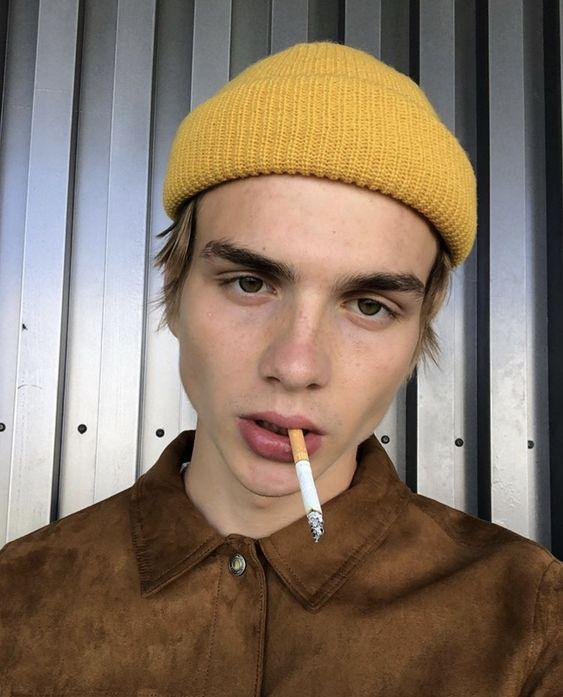cigarette: (287, 427, 324, 544)
